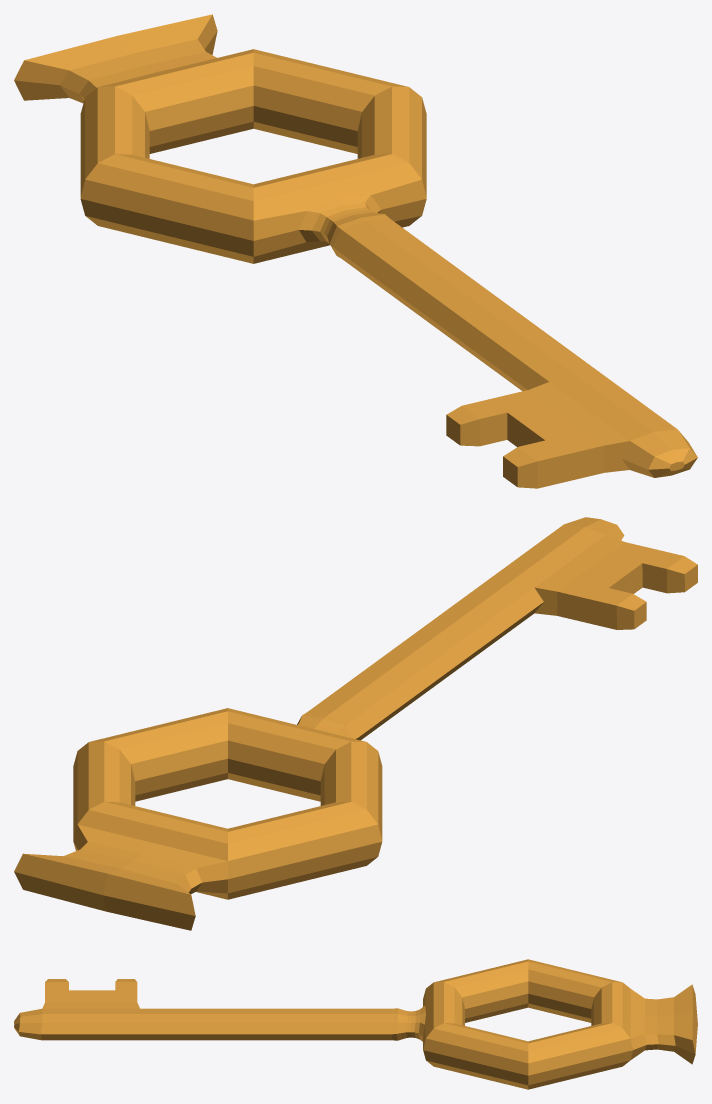
Rendered from Kunci.fbx.
3 renders of one model, top to bottom at view 1: azimuth 30°, elevation 25°; view 2: azimuth 150°, elevation 25°; view 3: azimuth 270°, elevation 25°, orthographic. The views are drawn at different scales.
Visible parts, largest first — view 1: Torus.001; view 2: Torus.001; view 3: Torus.001.
Boxes of the visible parts, x1,y1,x2,y2 form: Torus.001: [14, 14, 697, 488]; Torus.001: [14, 517, 697, 930]; Torus.001: [14, 959, 697, 1089].
Bounding box in the file's own units: 55.04 × 11.01 × 155.
